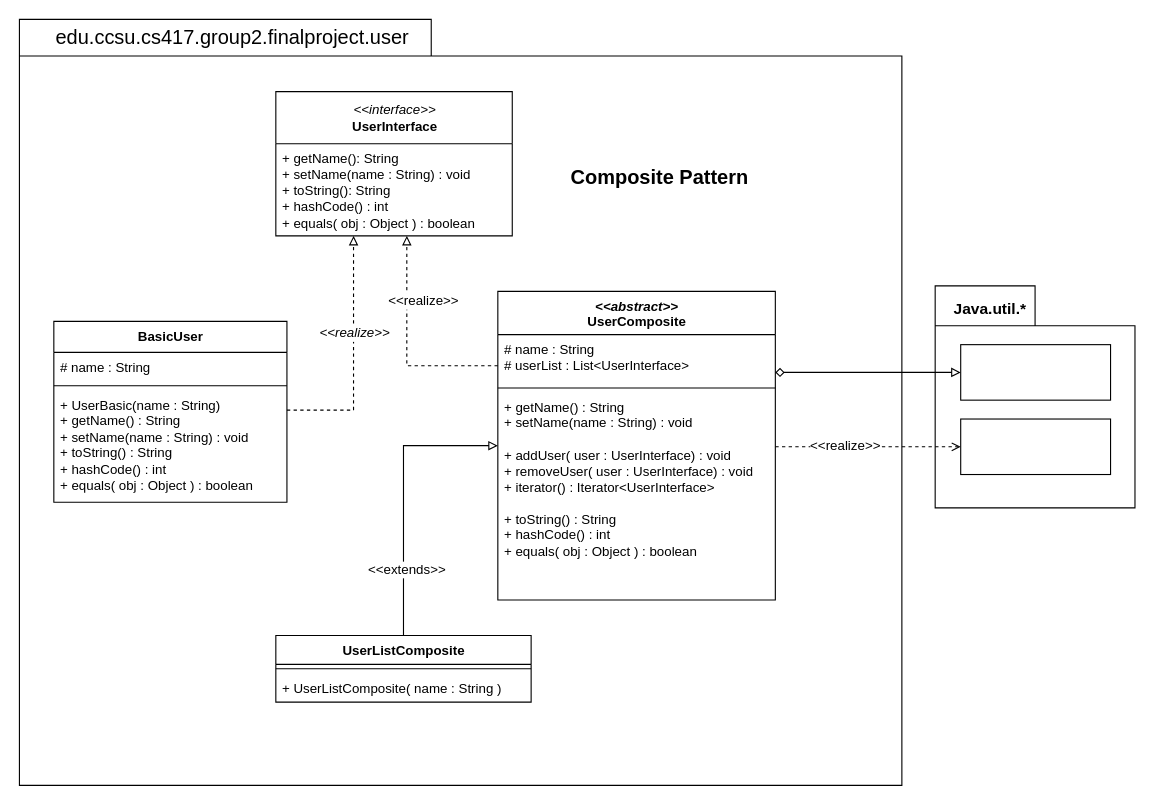
Some shapes in this 1154 by 805 pixel diagram are drawn without their labels. Here are the shapes that lost their labels. From the top down, the centre of each, then its label:
At point 1035,372: "«interface» List".
At point 1035,446: "«interface» Iterator".
